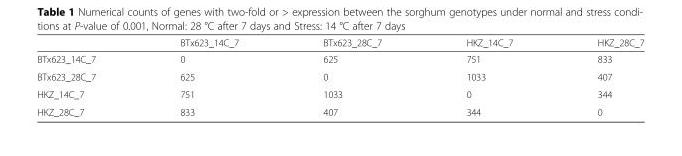table: (36, 36, 643, 117)
table column: (137, 36, 280, 117), (280, 36, 423, 117), (423, 36, 554, 117), (36, 36, 137, 117), (554, 36, 643, 117)
table column header: (36, 36, 643, 50)
table row: (36, 67, 643, 85), (36, 50, 643, 67), (36, 85, 643, 102), (36, 102, 643, 117), (36, 36, 643, 50)
